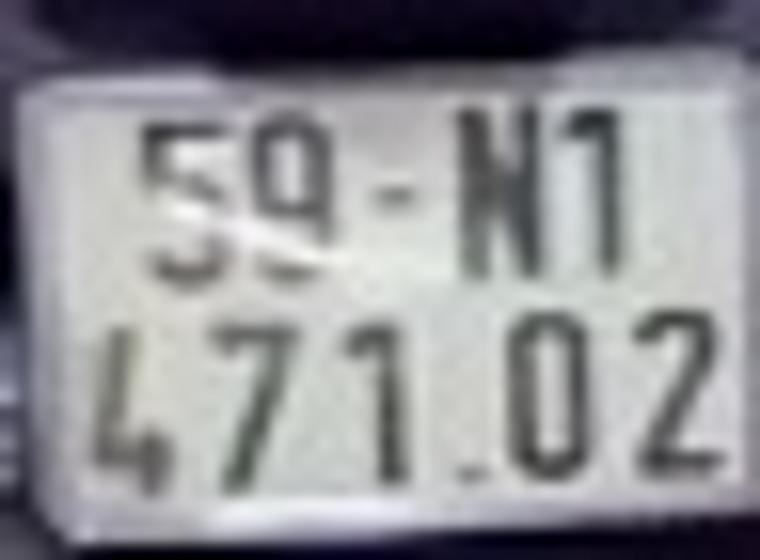-: (367, 171, 426, 212)
.: (458, 442, 488, 499)
0: (501, 306, 591, 480)
1: (348, 309, 417, 491), (566, 99, 630, 281)
2: (628, 302, 737, 487)
4: (87, 318, 178, 497)
5: (137, 105, 238, 294)
7: (212, 317, 300, 495)
9: (251, 112, 334, 287)
N: (450, 96, 555, 283)
